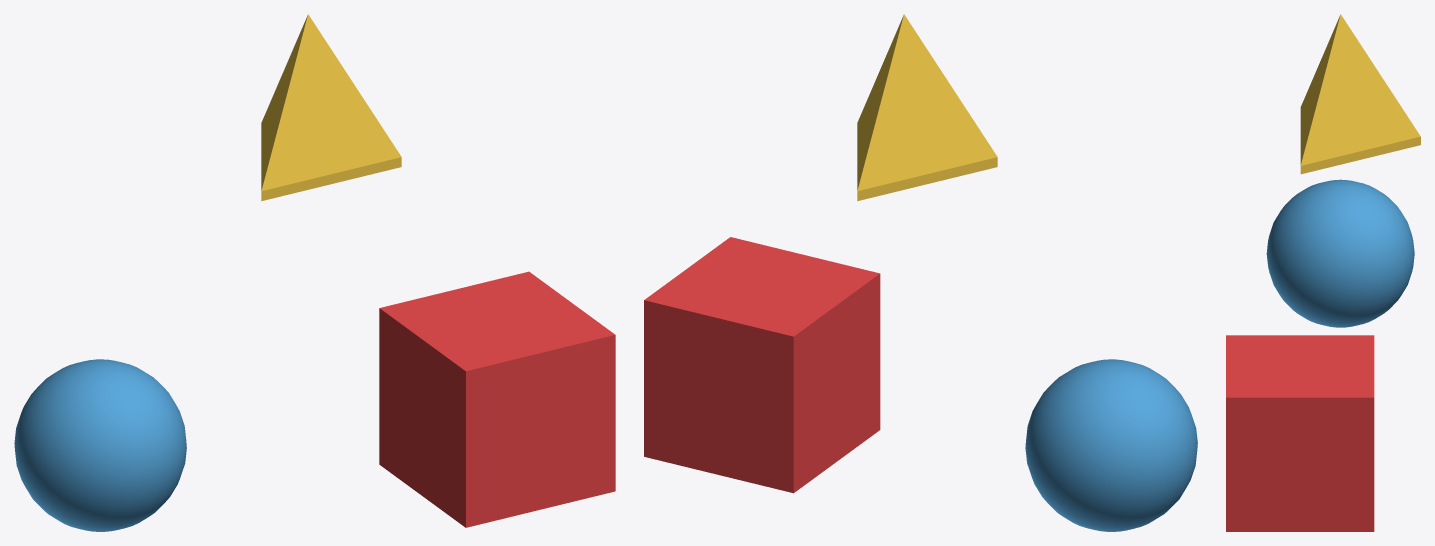
Rendered from stn.glb.
The picture shows the model from 3 angles, left to right: view 1: azimuth 30°, elevation 25°; view 2: azimuth 150°, elevation 25°; view 3: azimuth 270°, elevation 25°; orthographic projection. The views are drawn at different scales.
Visible parts, largest first — view 1: Cube, Sphere, Sphere.001; view 2: Cube, Sphere, Sphere.001; view 3: Cube, Sphere, Sphere.001.
Part boxes in pixels (x1=…): Cube: x1=379, y1=271, x2=615, y2=527; Sphere: x1=14, y1=359, x2=186, y2=531; Sphere.001: x1=261, y1=14, x2=401, y2=201; Cube: x1=644, y1=237, x2=880, y2=493; Sphere: x1=1025, y1=359, x2=1197, y2=531; Sphere.001: x1=857, y1=14, x2=997, y2=201; Cube: x1=1226, y1=335, x2=1374, y2=531; Sphere: x1=1266, y1=179, x2=1414, y2=327; Sphere.001: x1=1300, y1=14, x2=1420, y2=174.
Bounding box in the file's own units: 6.99 × 6.22 × 2.63.
